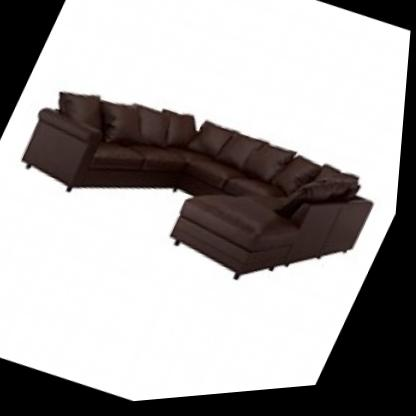Sofa: (0, 22, 413, 348)
